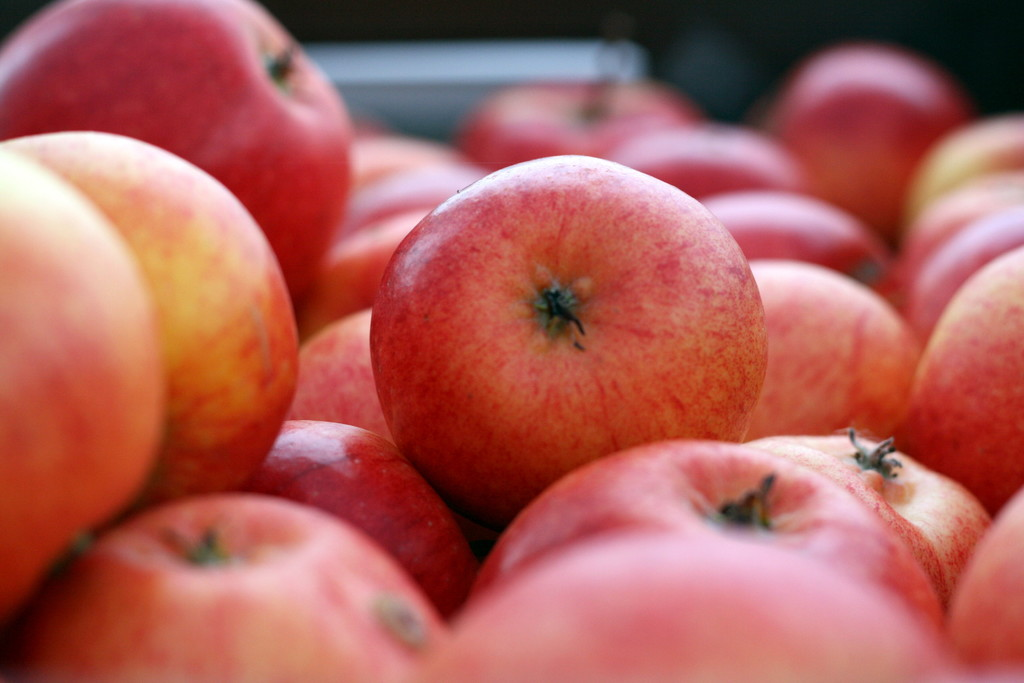Apple: (0, 0, 1023, 682), (366, 152, 768, 528)
